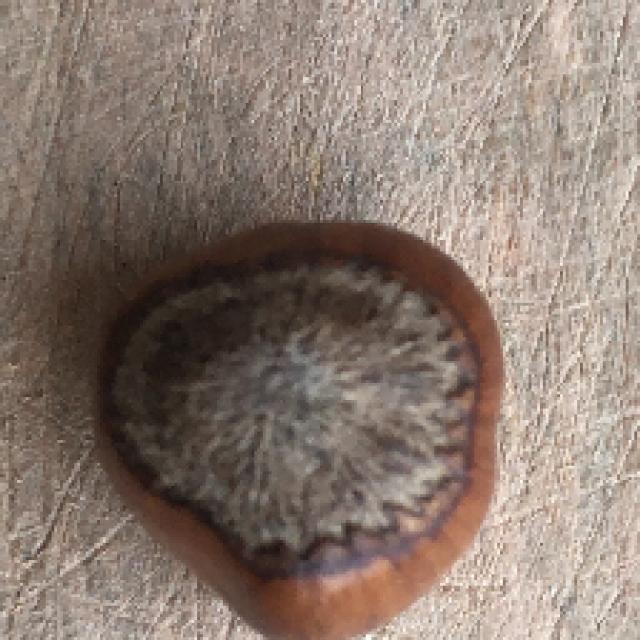DamagedHazelnut: (88, 222, 502, 637)
